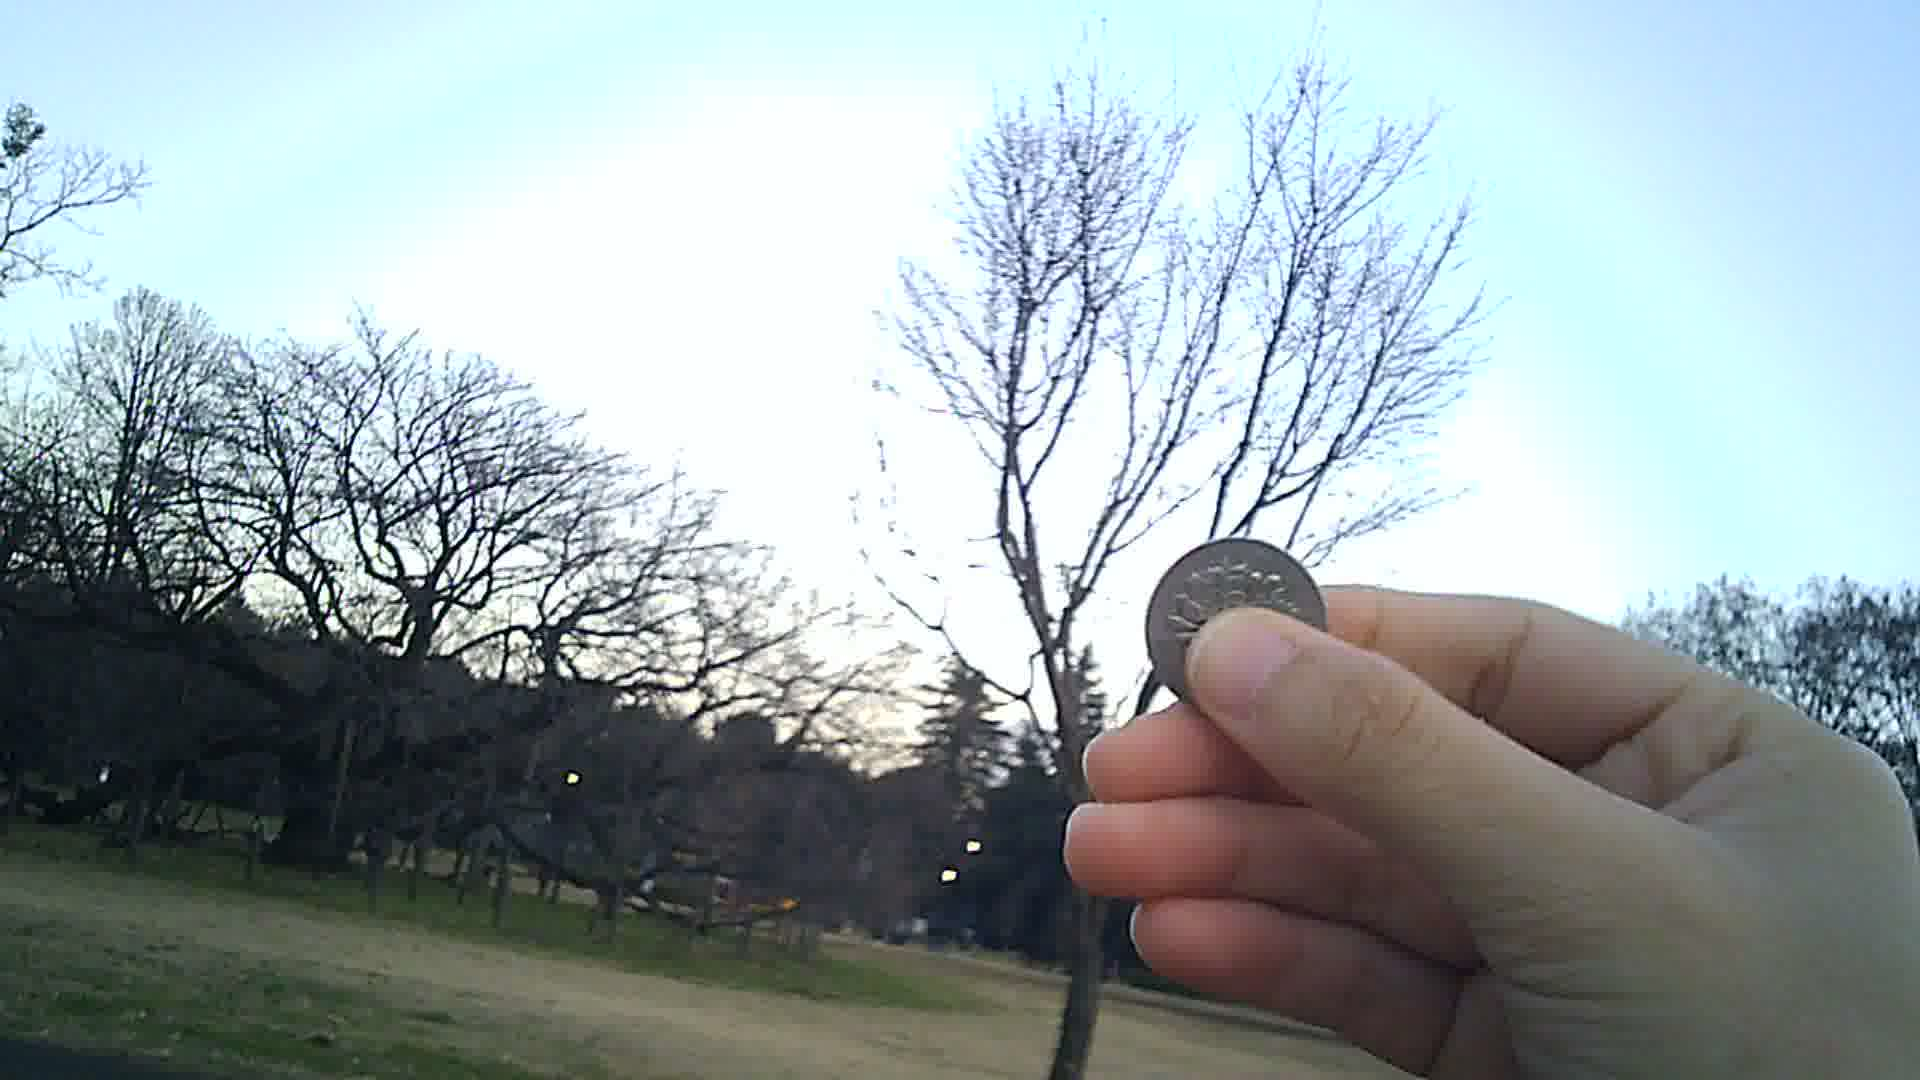100 Yen: (1142, 538, 1329, 717)
